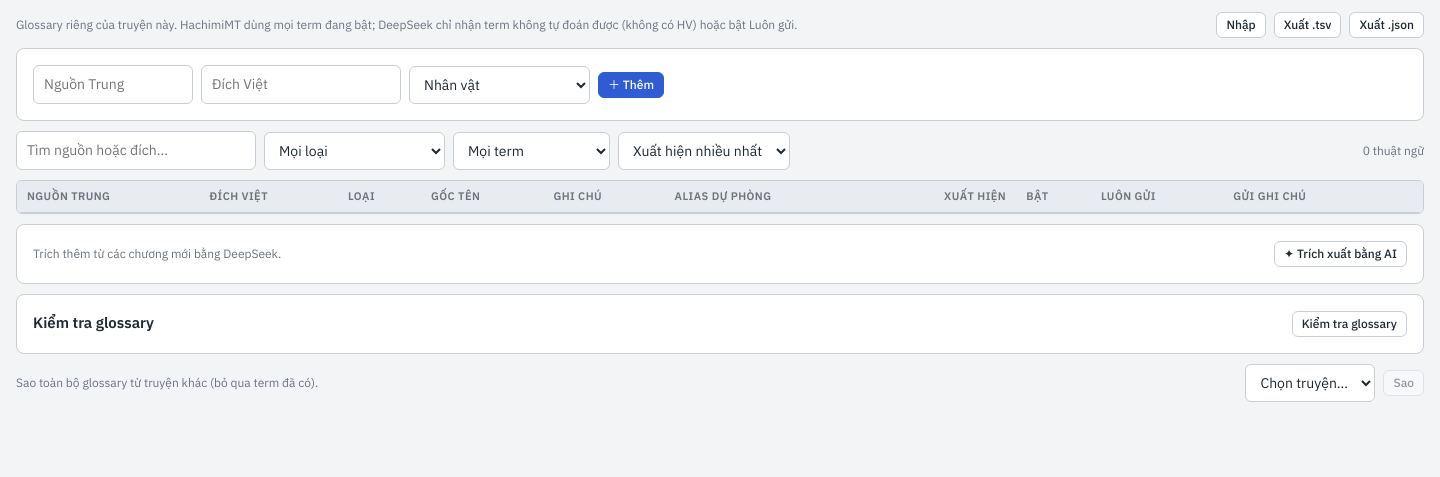
thêm term rỗng thì báo lỗi, không gọi API
What coordinates should you click on to do the following:
click the button "＋ Thêm"
I would click on:
 (631, 84)
Its box is [598,72,664,98].
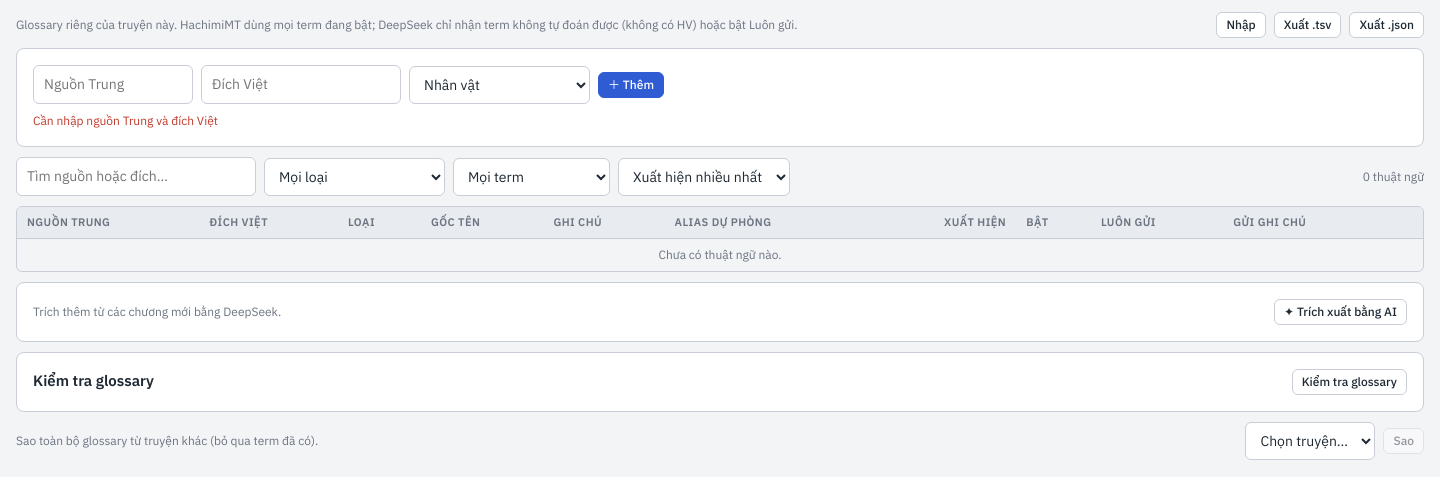
expect the text "Cần nhập nguồn Trung và đích Việt" is shown: met, box [33,113,218,128]
